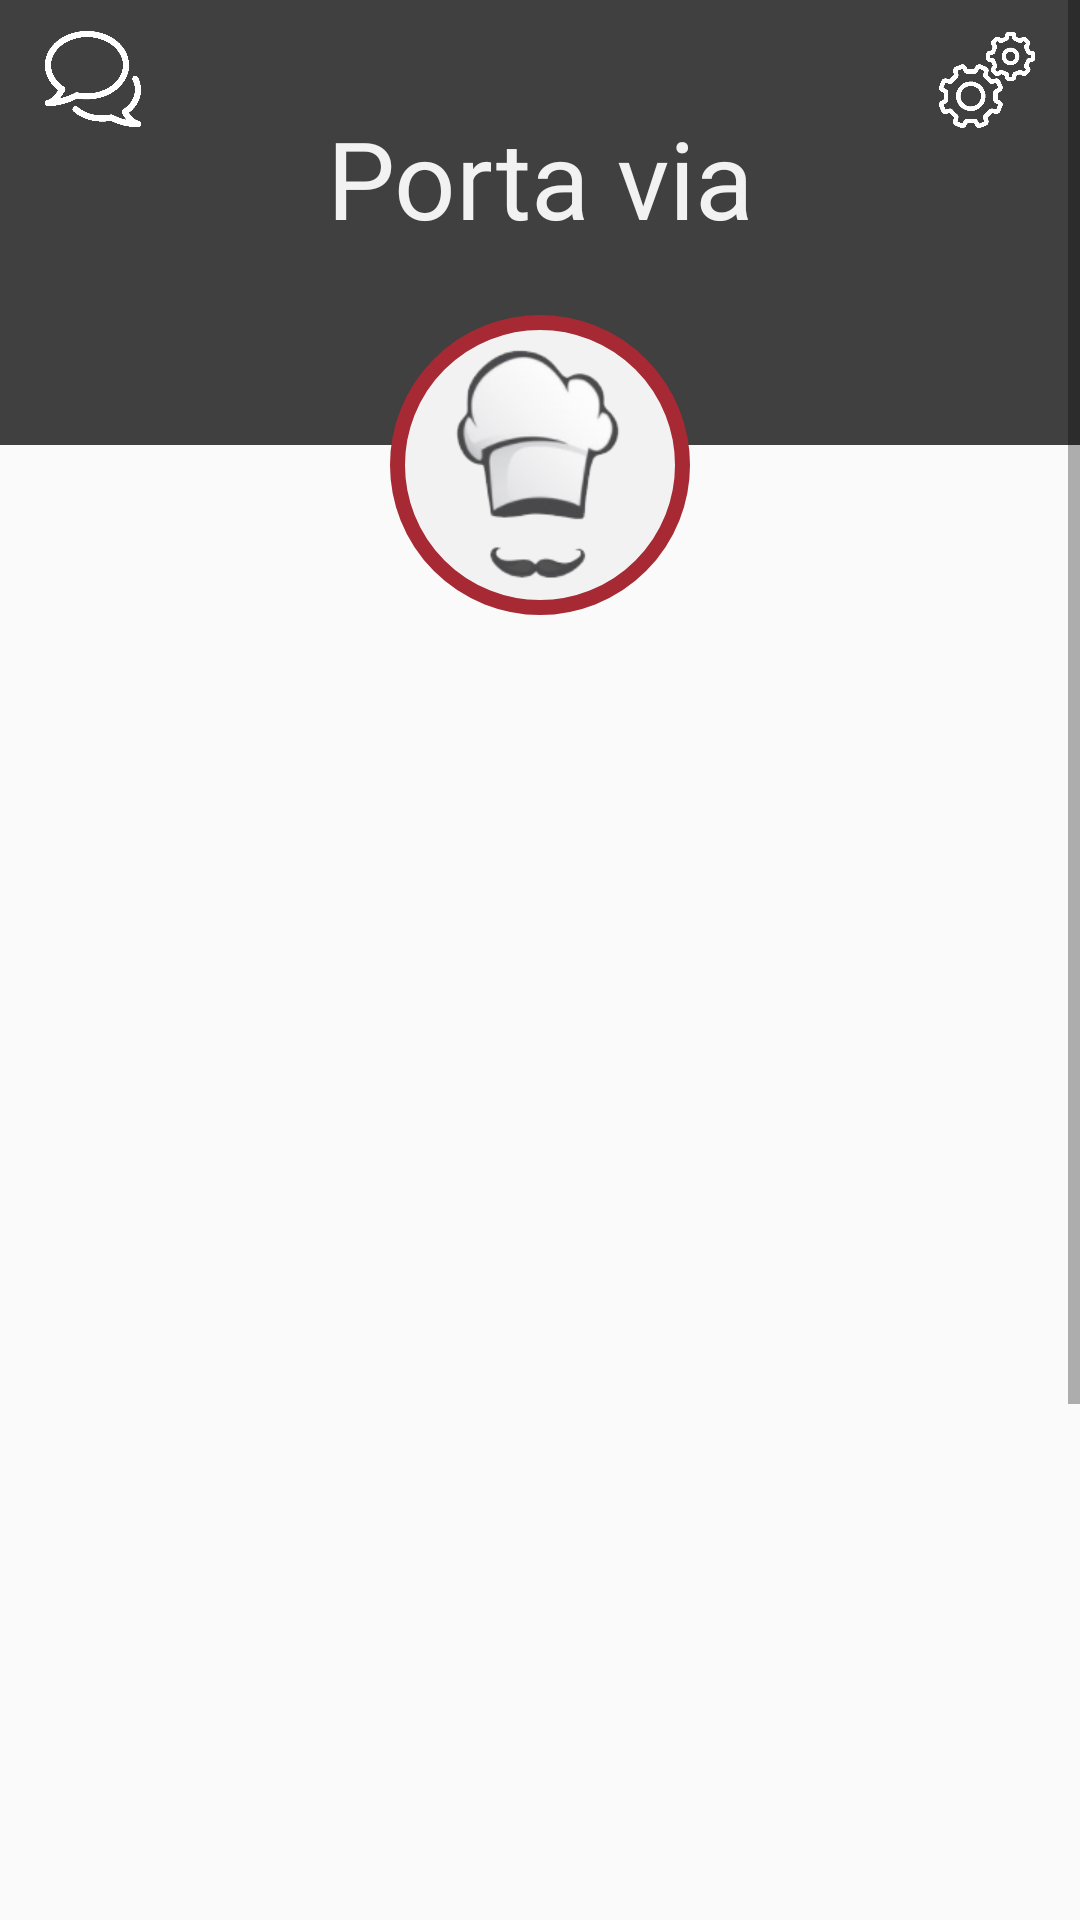

Screen size 1080×1920. Icon name, then its center in pixels as (x=x, y=y):
chat: (x=93, y=79)
cheff: (x=540, y=465)
settings: (x=987, y=80)
